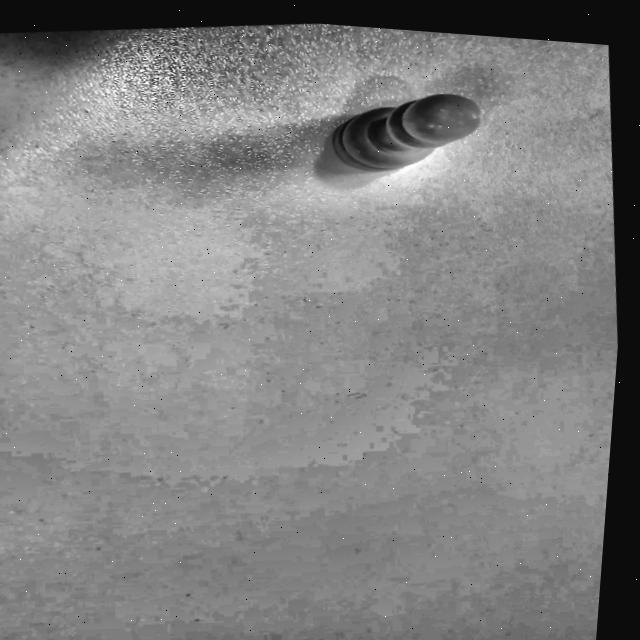white-pawn: (317, 92, 480, 182)
